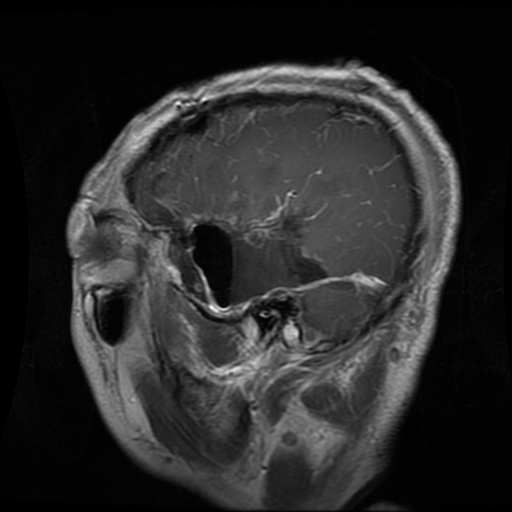glioma: (187, 214, 331, 308)
